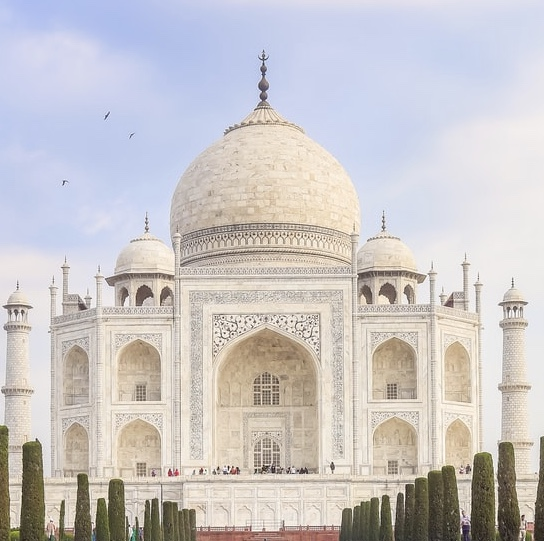Mosque: (7, 51, 536, 514)
